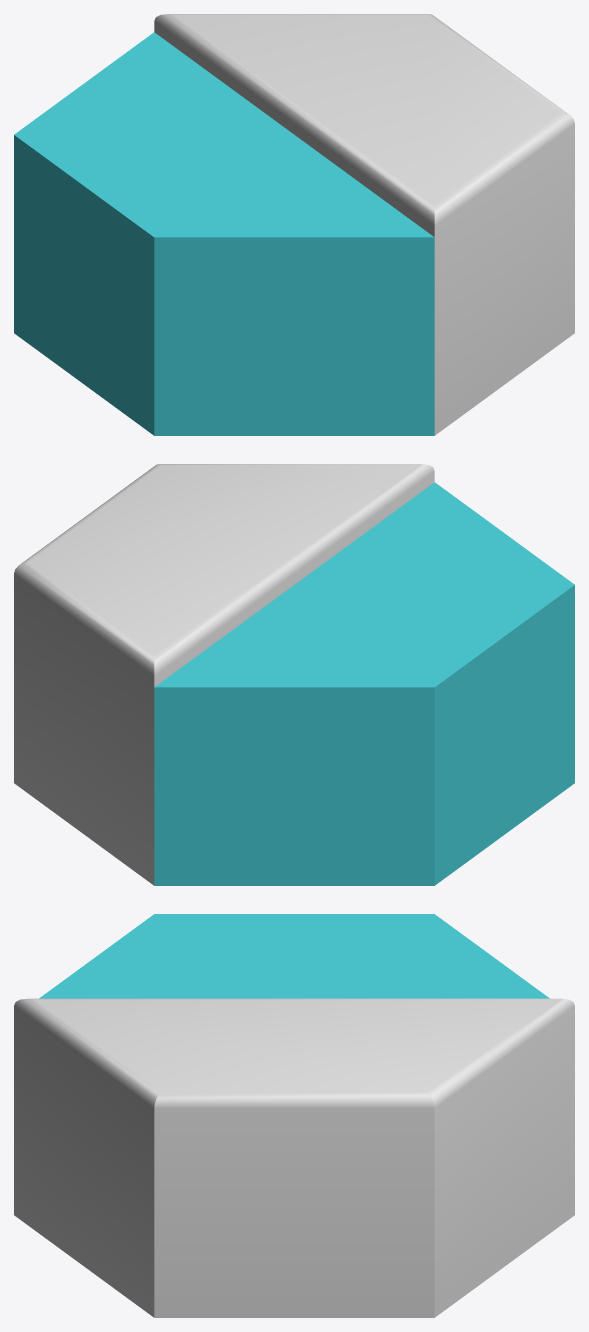
File: hex_snow_waterB.gltf.glb
The picture shows the model from 3 angles, top to bottom: view 1: azimuth 30°, elevation 25°; view 2: azimuth 150°, elevation 25°; view 3: azimuth 270°, elevation 25°; orthographic projection.
Visible parts, largest first — view 1: hex_snow_waterB; view 2: hex_snow_waterB; view 3: hex_snow_waterB.
Part boxes in pixels (bbox=[...]): hex_snow_waterB: bbox=[14, 14, 574, 435]; hex_snow_waterB: bbox=[14, 464, 574, 885]; hex_snow_waterB: bbox=[14, 914, 574, 1317].
Size of the model in its own units: 2 by 1 by 2.31.
